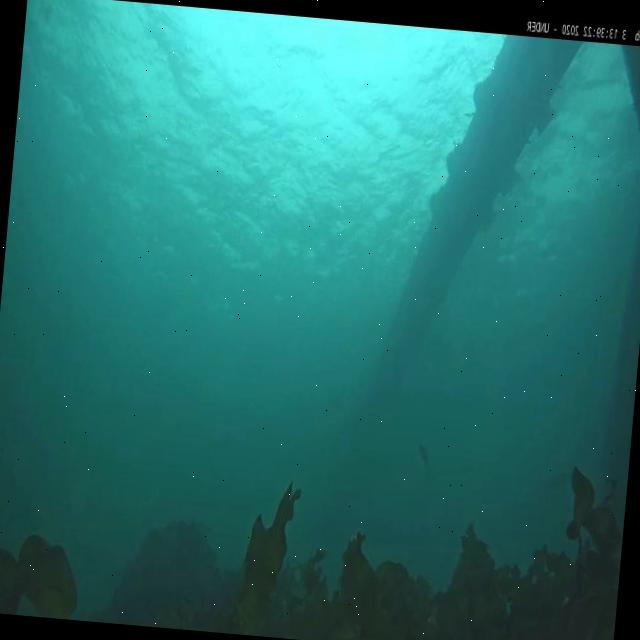fish: (416, 438, 429, 472)
